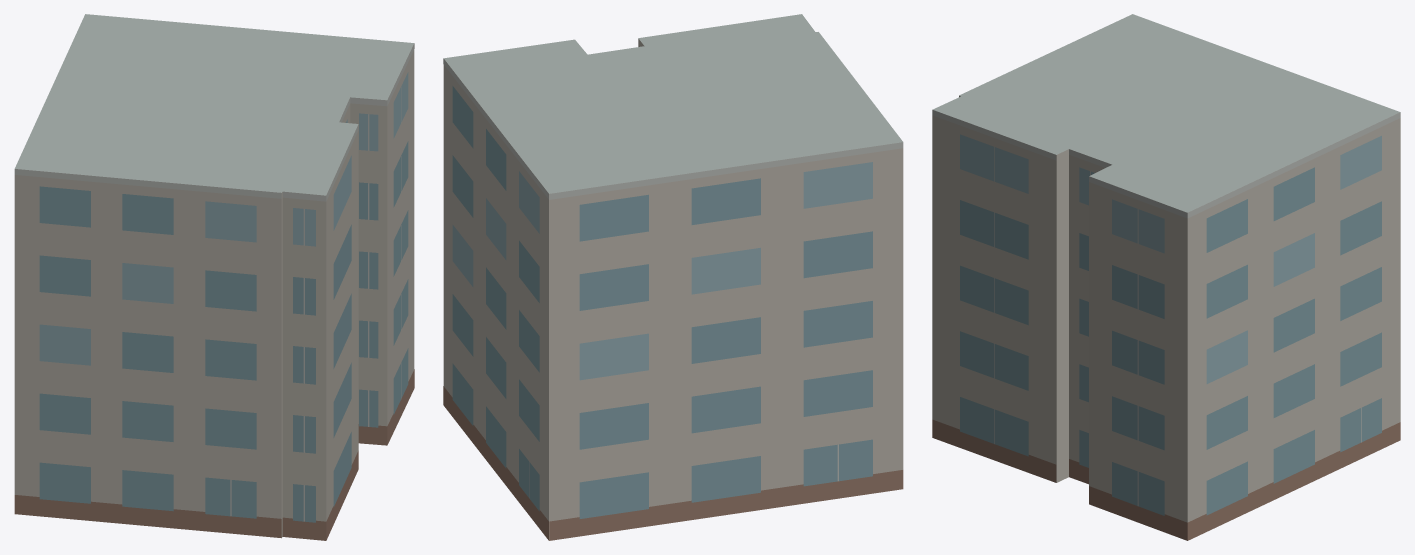
The model's file is survey-upis-32735186.glb.
3 renders of one model, left to right at view 1: azimuth 30°, elevation 25°; view 2: azimuth 150°, elevation 25°; view 3: azimuth 270°, elevation 25°, orthographic. The views are drawn at different scales.
Visible parts, largest first — view 1: survey-upis-32735186.tmp; view 2: survey-upis-32735186.tmp; view 3: survey-upis-32735186.tmp.
Part boxes in pixels (x1,y1,x2,y2): survey-upis-32735186.tmp: (14,14,414,540); survey-upis-32735186.tmp: (443,14,903,540); survey-upis-32735186.tmp: (932,14,1400,540).
Bounding box in the file's own units: 18.2 × 14 × 18.12.
